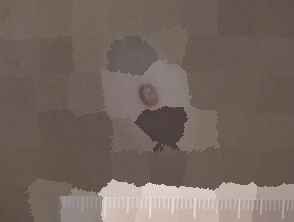vitiligo: (83, 23, 234, 176)
